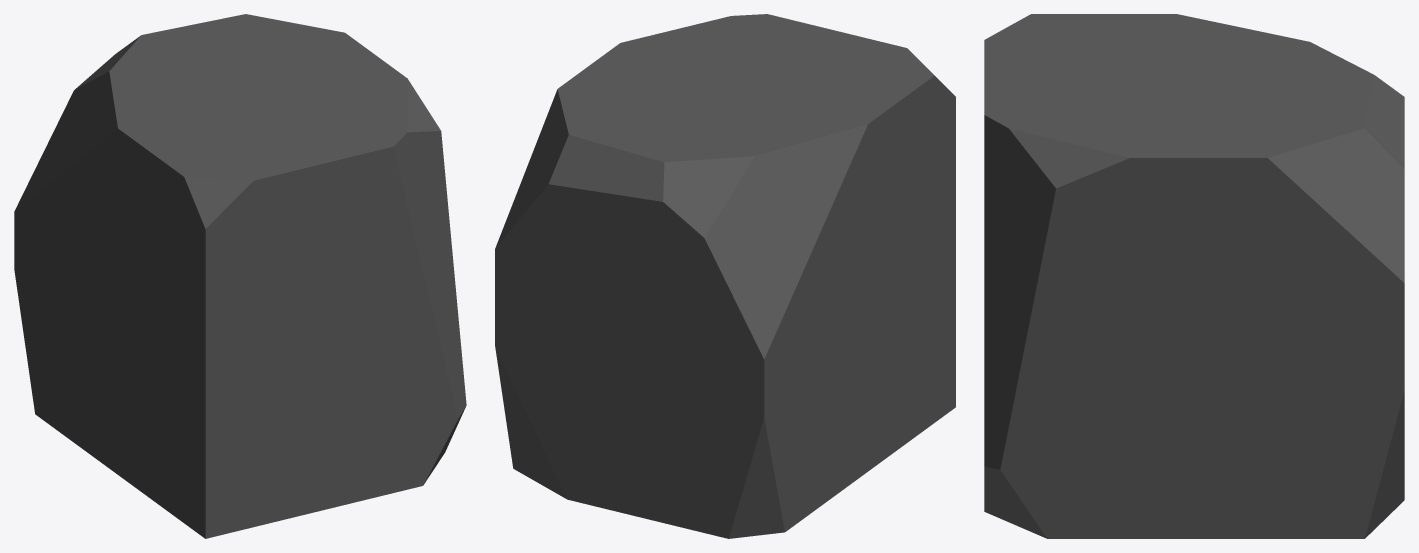
The model's file is Ruins_16.fbx.
3 views of the same model, side by side, from view 1: azimuth 30°, elevation 25°; view 2: azimuth 150°, elevation 25°; view 3: azimuth 270°, elevation 25° (orthographic). The views are drawn at different scales.
Visible parts, largest first — view 1: Ruins_16; view 2: Ruins_16; view 3: Ruins_16.
Boxes of the visible parts, left/top/right/bottom form: Ruins_16: left=14, top=14, right=466, bottom=538; Ruins_16: left=495, top=14, right=955, bottom=538; Ruins_16: left=984, top=14, right=1404, bottom=538.
Size of the model in its own units: 72.72 by 89.7 by 89.7.
